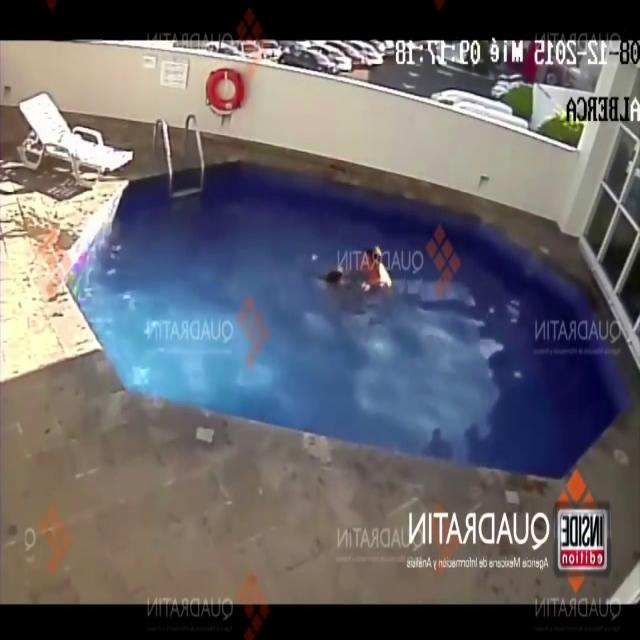adult: (363, 242, 391, 312)
child: (312, 253, 360, 312)
